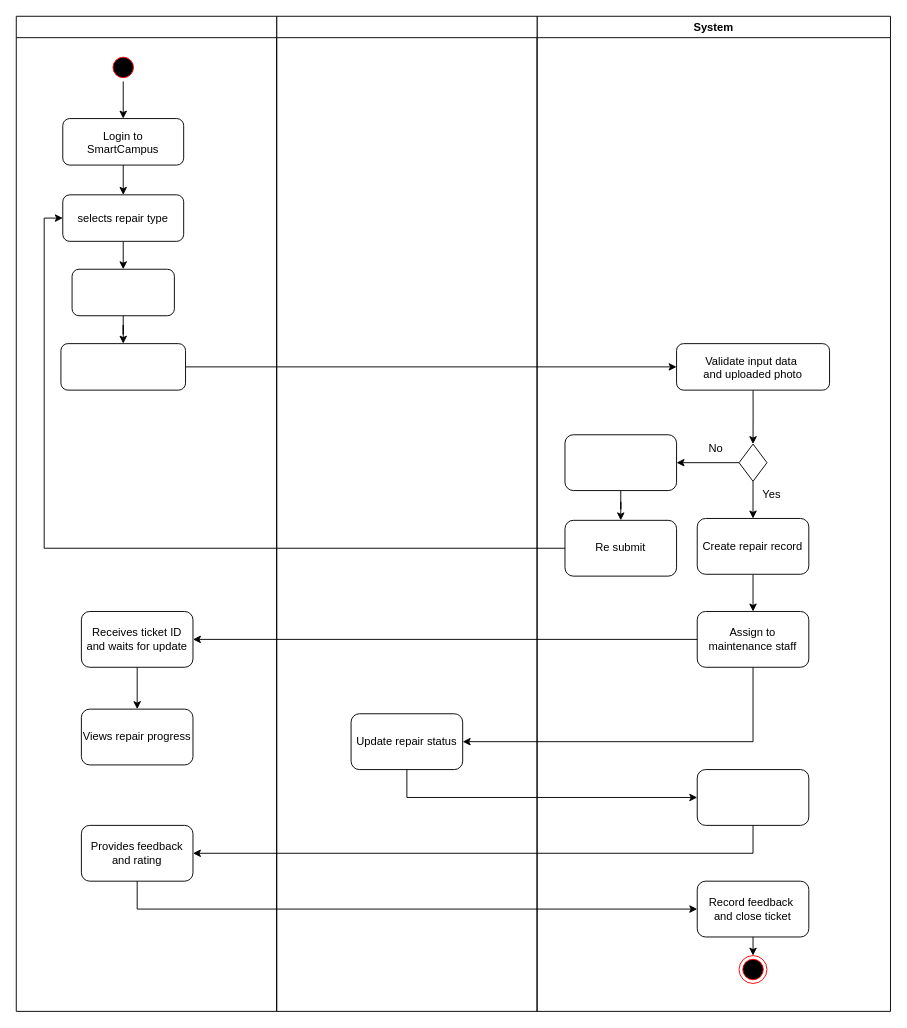
Some shapes in this 907 by 1028 pixel diagram are drawn without their labels. Each missing label, with the box of its shape:
Display error prompts: (564, 434, 677, 491)
Fills repair form: (71, 268, 174, 316)
Maintenance Staff: (276, 15, 537, 1011)
Notify student of completion: (696, 769, 809, 825)
Student: (15, 15, 277, 1011)
Submits repair request: (60, 343, 186, 390)
